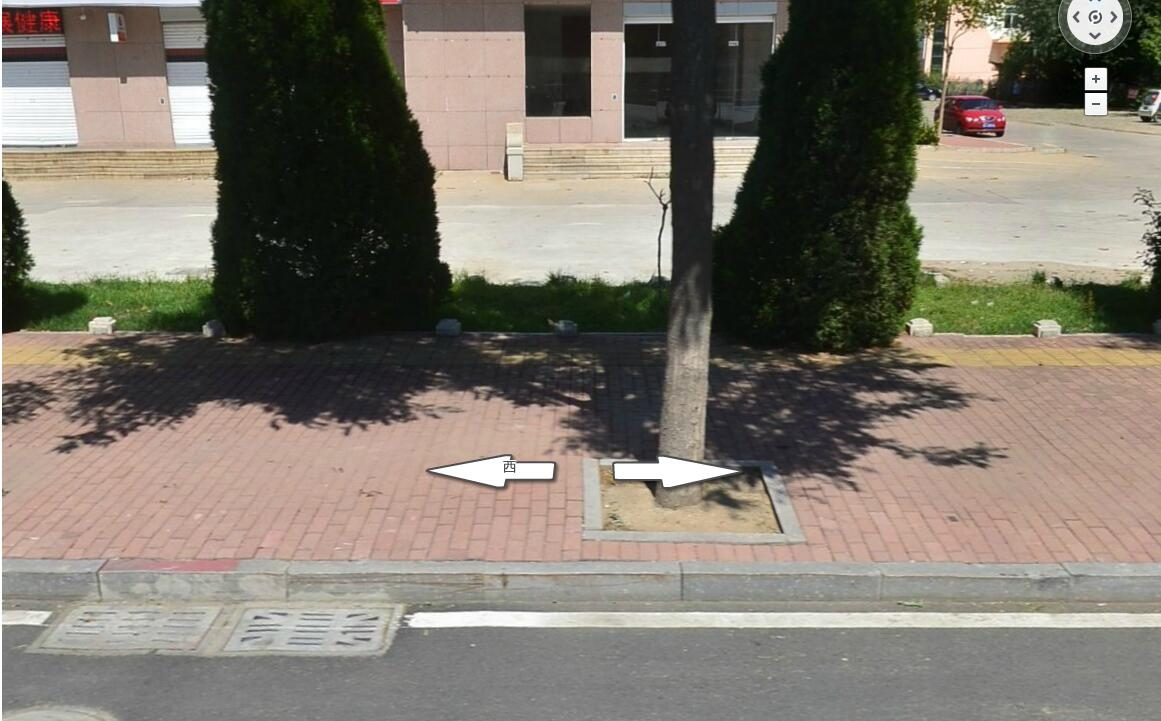side: (286, 560, 507, 602), (681, 562, 886, 603), (882, 564, 1074, 606), (98, 558, 288, 600), (504, 563, 684, 600)
